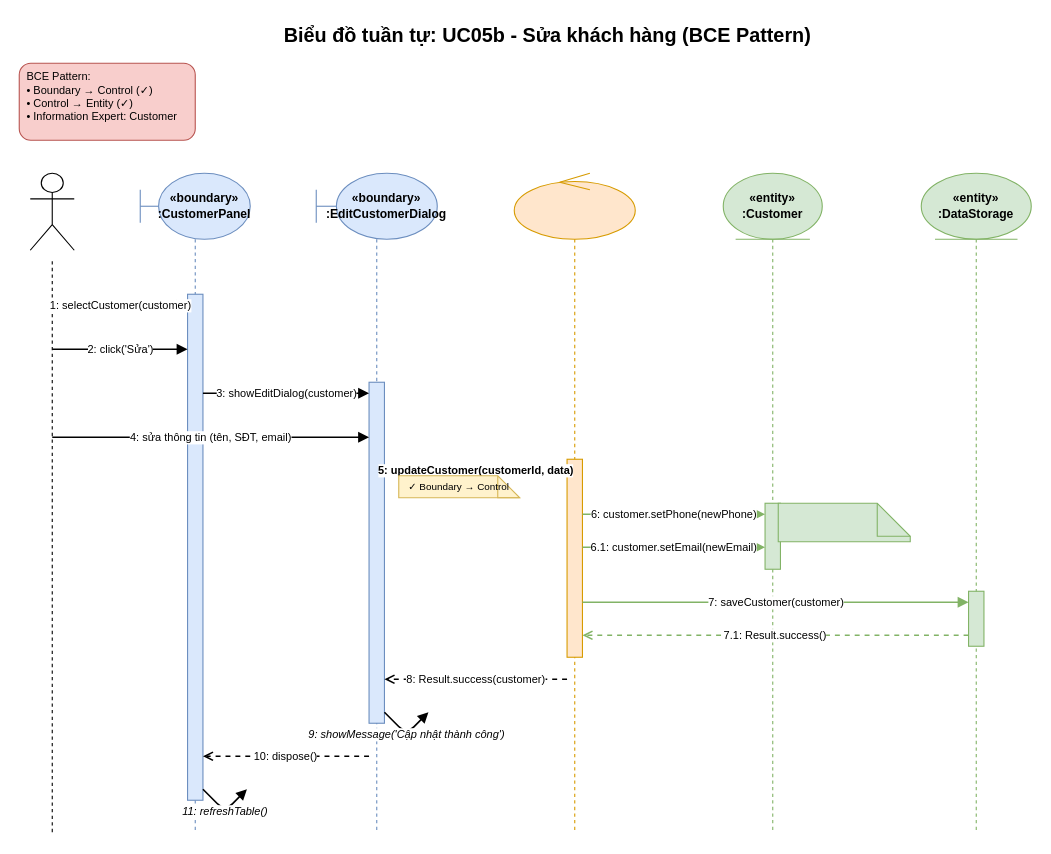
The diagram is 1051 pixels wide and 854 high, and some of its shapes have lost their labels. Here are the shapes that lost their labels. From the top down, the centre of each, then its label:
(x=51, y=211): Lễ tân
(x=574, y=205): «control» :CustomerManager
(x=843, y=522): ✓ Information Expert Customer cập nhật data
